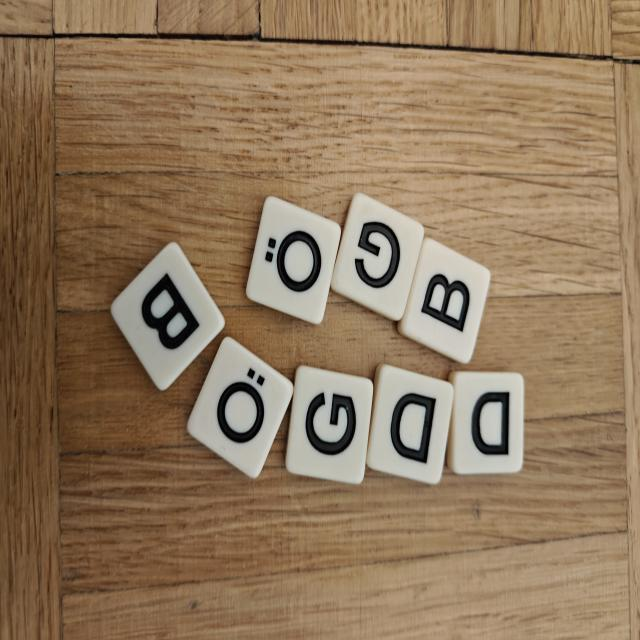b: (111, 242, 224, 390), (398, 239, 490, 363)
d: (366, 364, 453, 484), (446, 372, 524, 474)
g: (331, 193, 424, 320), (285, 366, 373, 483)
o_dot: (188, 337, 293, 478), (246, 196, 341, 324)
